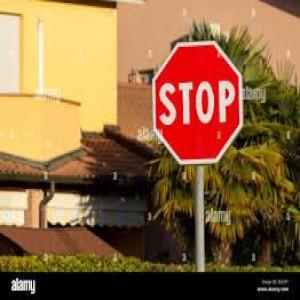STOP: (152, 42, 245, 166)
